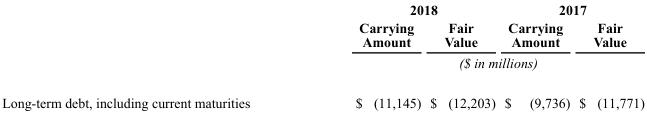table: (1, 1, 643, 109)
table column: (1, 1, 302, 109), (302, 1, 424, 109), (424, 1, 499, 109), (499, 1, 573, 109), (573, 1, 643, 109)
table column header: (1, 1, 643, 82)
table row: (1, 18, 643, 51), (1, 51, 643, 82), (1, 82, 643, 109), (1, 1, 643, 18)
table spanning cell: (302, 51, 643, 82), (302, 1, 499, 18), (499, 1, 643, 18)
